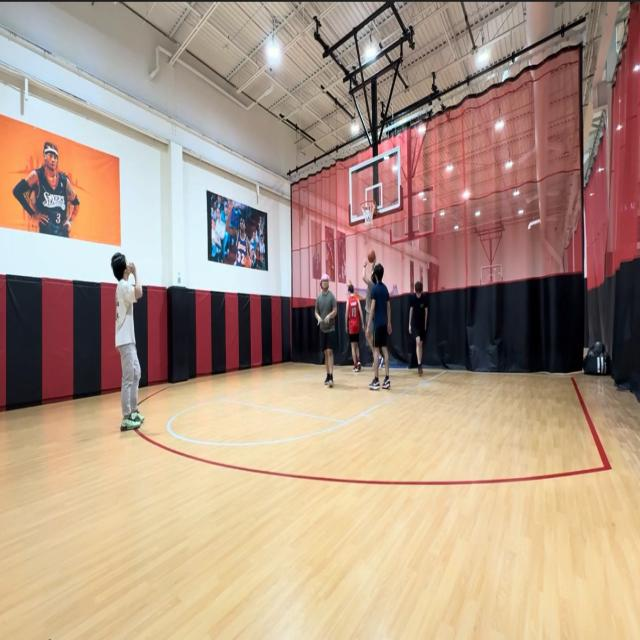Basketball: (368, 250, 376, 262)
Basketball Rim: (360, 200, 376, 226)
Player: (109, 250, 146, 432), (366, 262, 395, 392), (314, 272, 339, 390), (408, 280, 428, 380), (345, 283, 365, 373)
